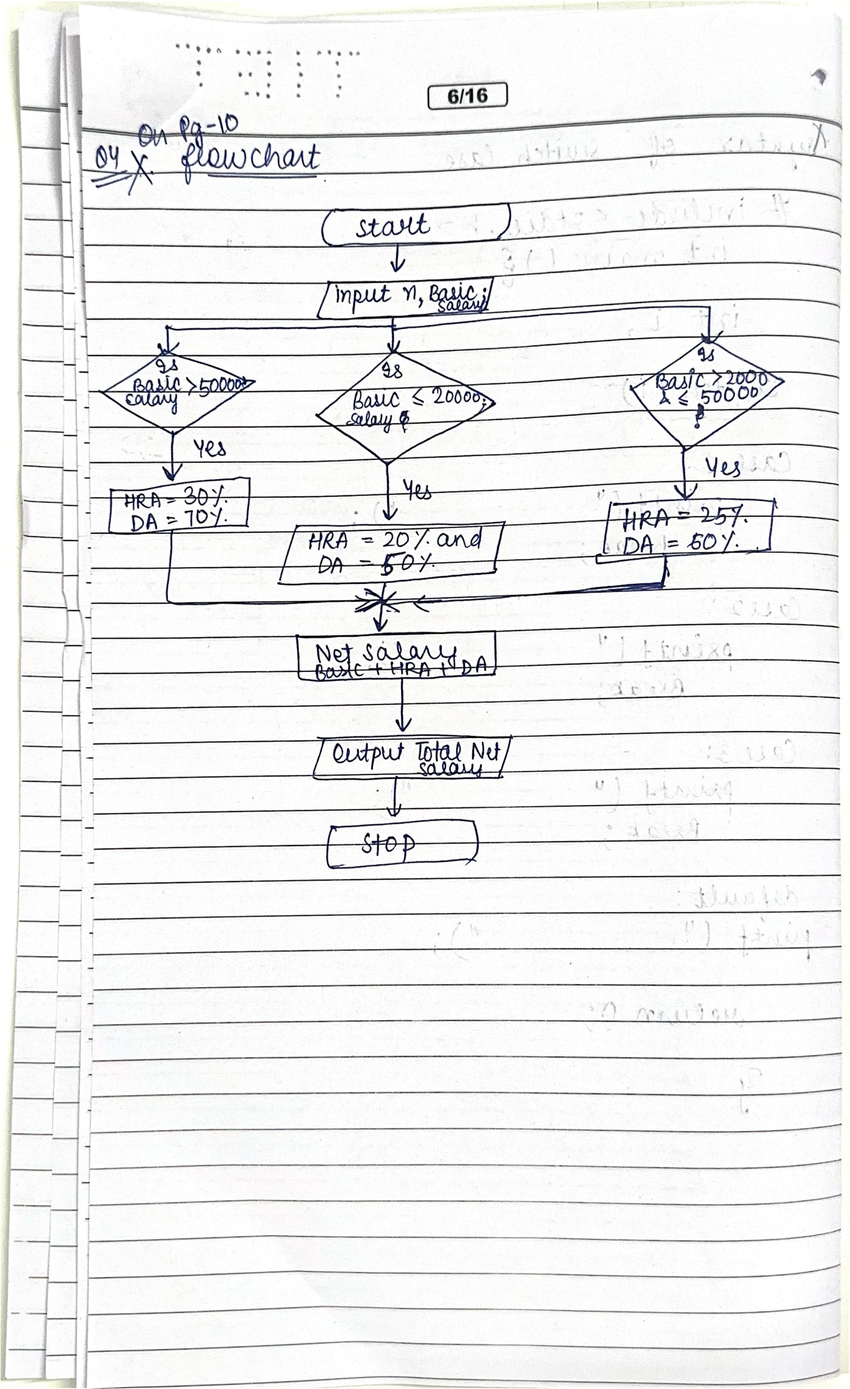cuttings: (691, 400, 707, 431), (397, 408, 413, 436)
